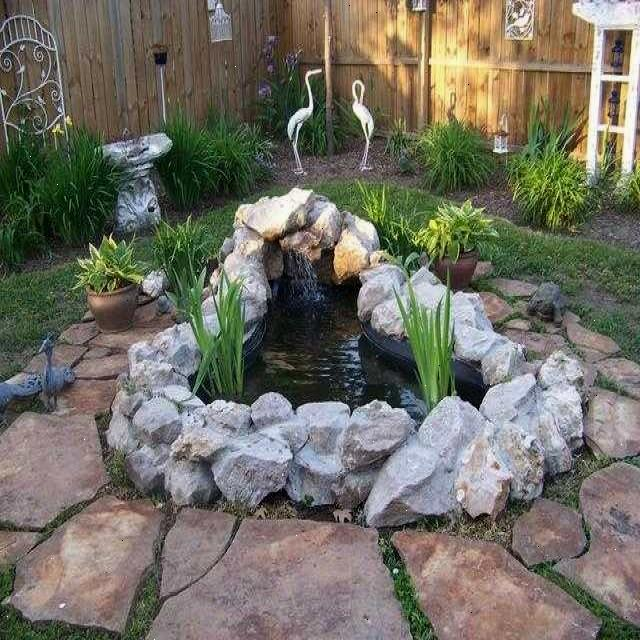egret: (284, 64, 322, 176), (347, 75, 378, 175)
